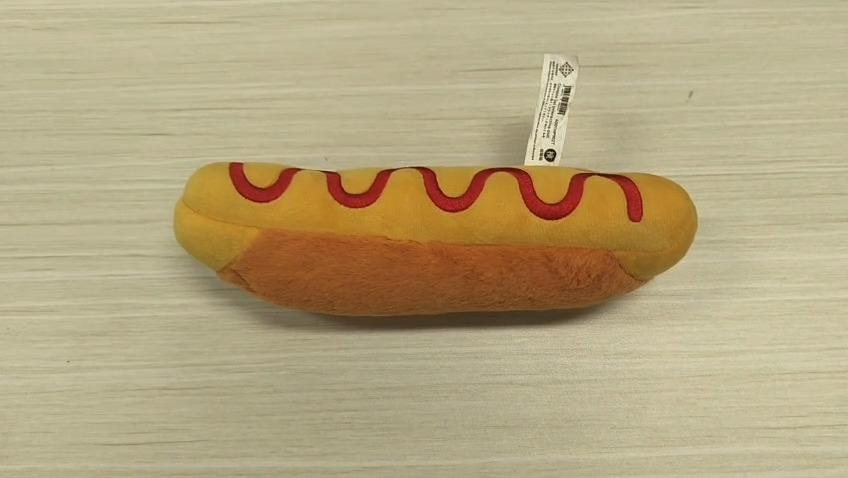hotdog: (172, 159, 698, 317)
